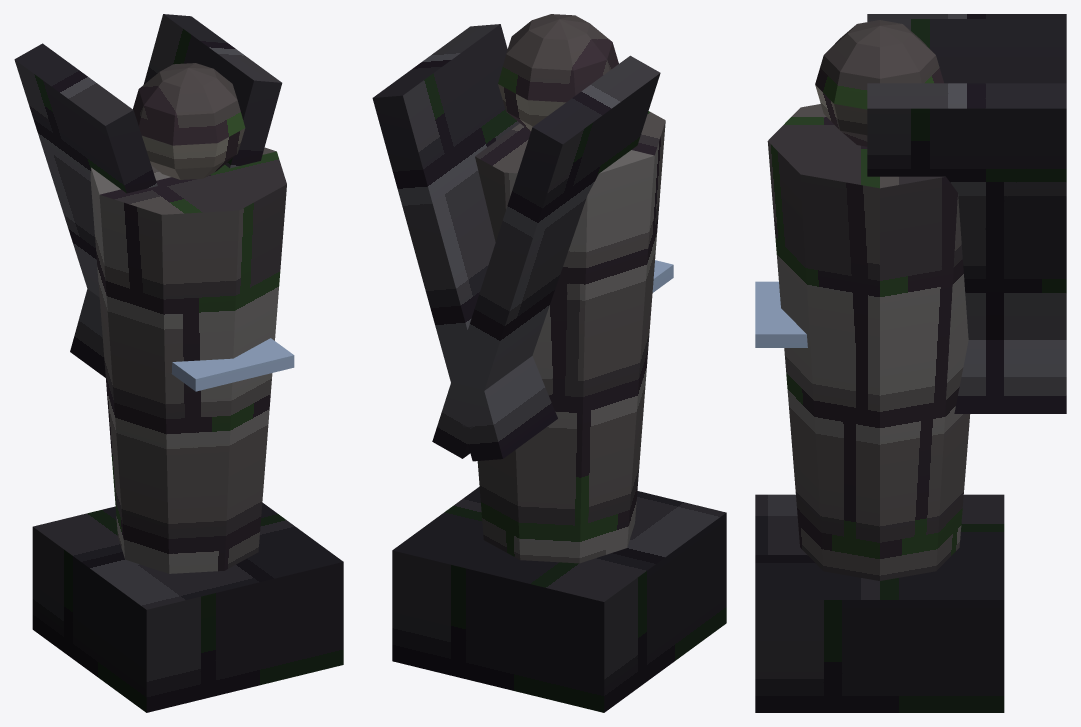
Rendered from mourning_statue.glb.
3 views of the same model, side by side, from view 1: azimuth 30°, elevation 25°; view 2: azimuth 150°, elevation 25°; view 3: azimuth 270°, elevation 25° (orthographic). The views are drawn at different scales.
Visible parts, largest first — view 1: mourning_statue; view 2: mourning_statue; view 3: mourning_statue.
Part boxes in pixels (<box>): mourning_statue: <box>14,14,343,712</box>; mourning_statue: <box>372,14,726,712</box>; mourning_statue: <box>755,14,1066,712</box>.
Size of the model in its own units: 1 by 2.81 by 1.25.
2 materials, 1 textured.
